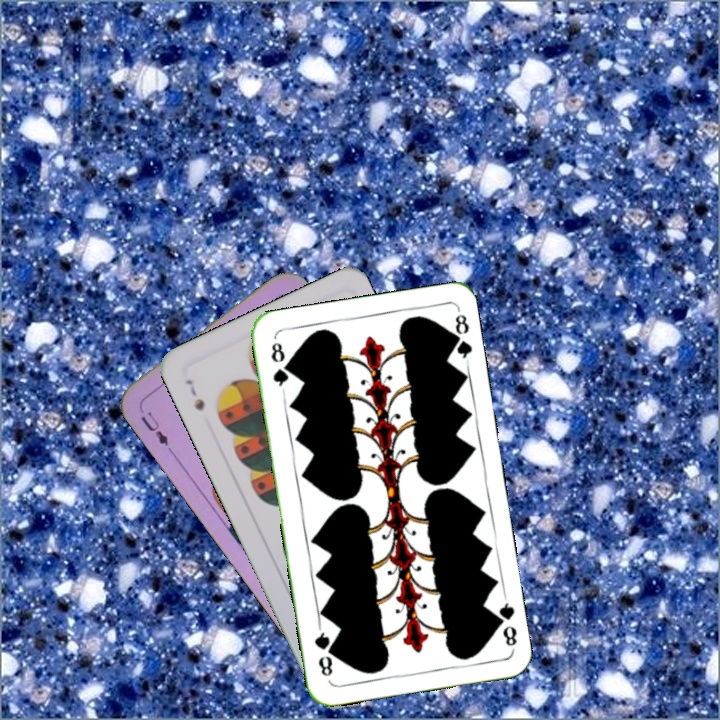EU: (136, 407, 172, 449)
G8: (489, 593, 520, 651), (267, 338, 291, 394)
S7: (182, 375, 207, 414)
